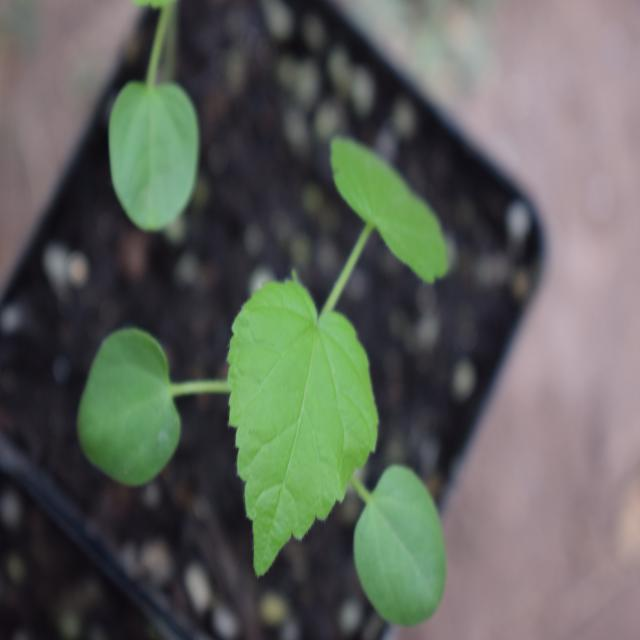abutilon theophrasti: (80, 144, 470, 588)
